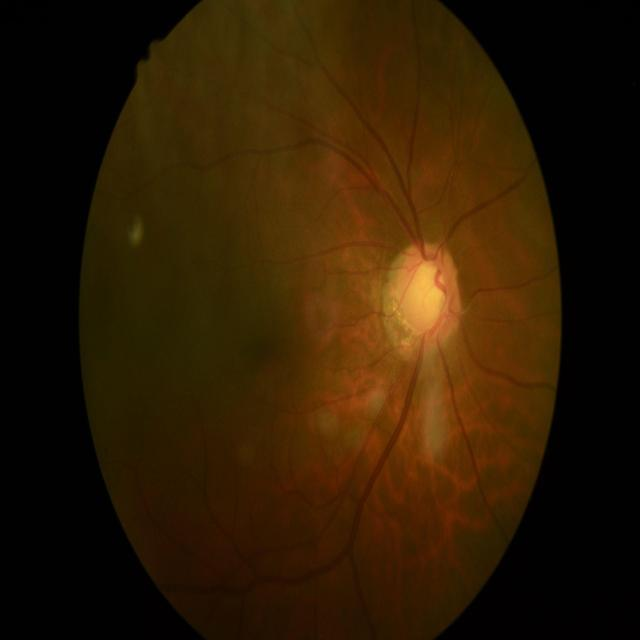cup: (408, 261, 449, 332)
disk: (392, 243, 462, 340)
